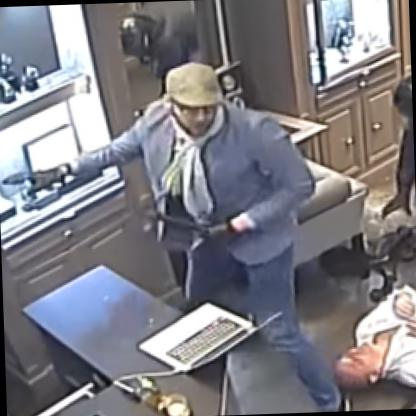Human Body: (13, 57, 356, 415)
